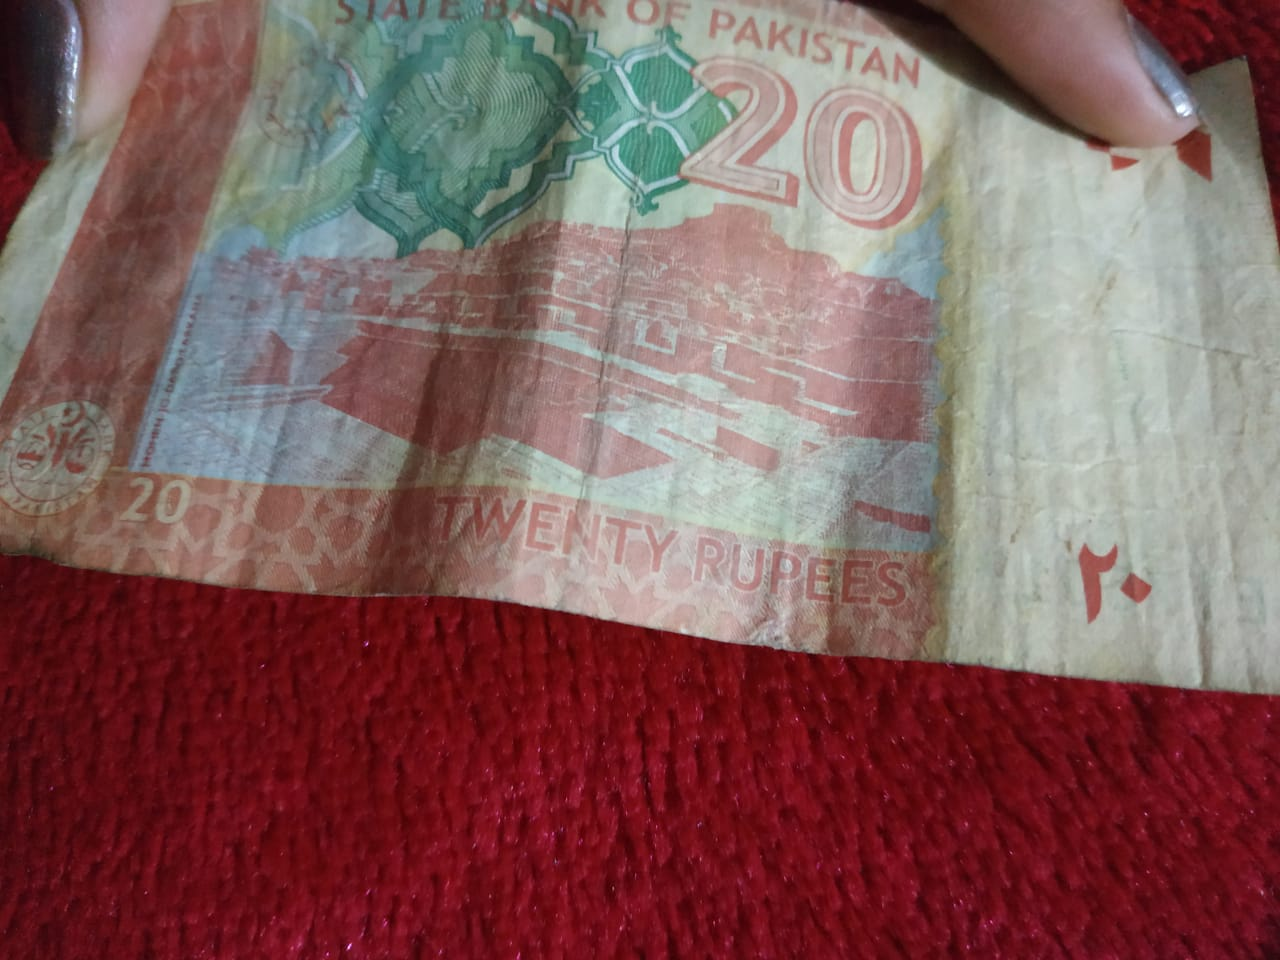20 rupee: (9, 16, 1279, 703)
